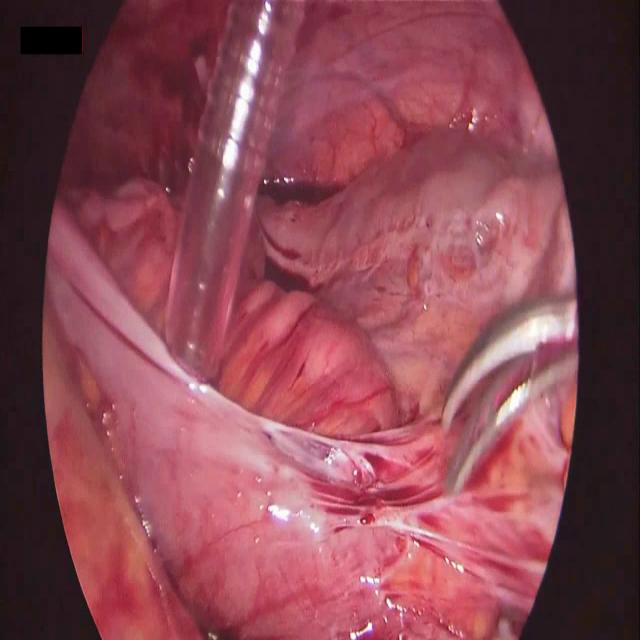surgical-area: (38, 0, 580, 639)
surgical-tool: (440, 292, 580, 494)
